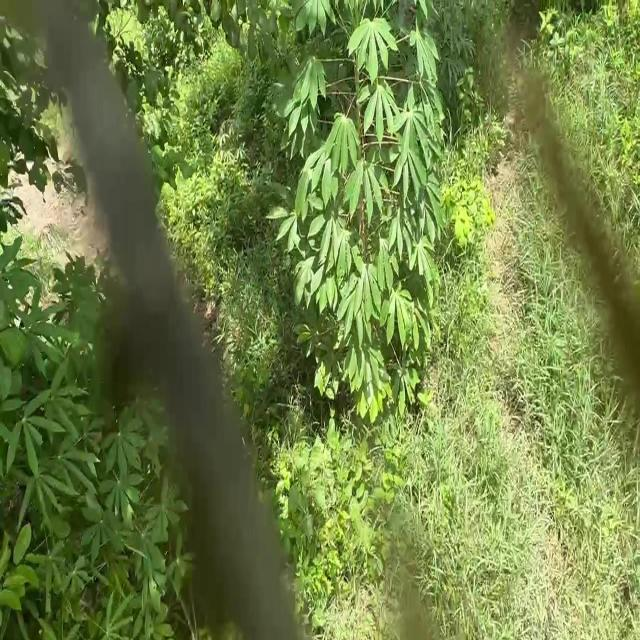Maleza: (424, 411, 640, 640), (489, 278, 640, 522), (276, 446, 435, 636), (452, 185, 620, 327), (552, 22, 640, 254), (148, 77, 238, 256), (105, 16, 227, 107)
